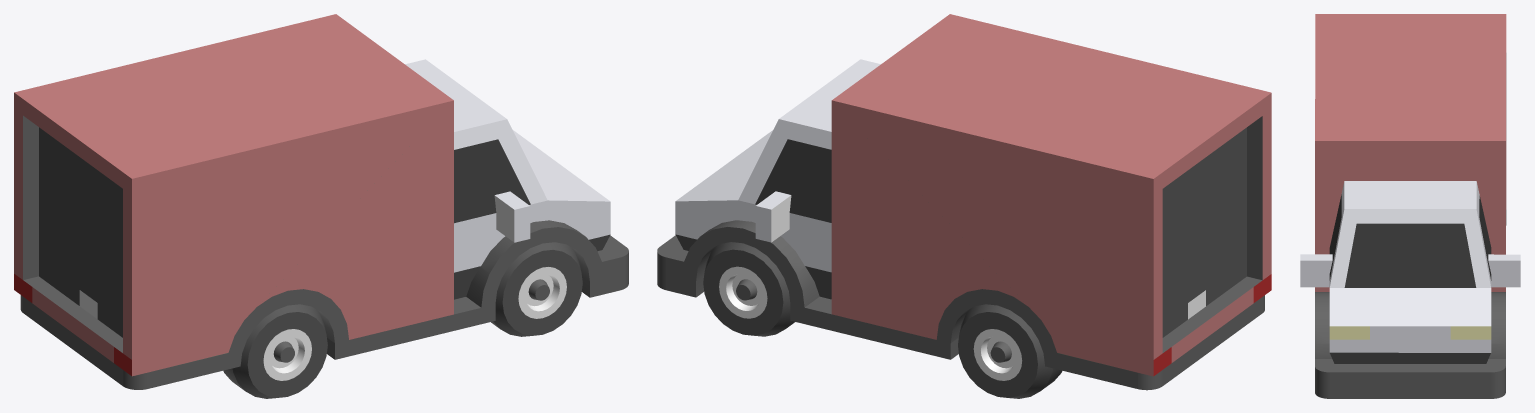
Rendered from 20 Trasport_Vehical_2.FBX.
3 views of the same model, side by side, from view 1: azimuth 30°, elevation 25°; view 2: azimuth 150°, elevation 25°; view 3: azimuth 270°, elevation 25° (orthographic). The views are drawn at different scales.
Visible parts, largest first — view 1: body009, door002, wheel_backRight009, wheel_frontRight009; view 2: body009, door002, wheel_backLeft009, wheel_frontLeft009; view 3: body009.
Part boxes in pixels (x1,y1,x2,y2): body009: (14,14,628,389); door002: (39,127,122,337); wheel_backRight009: (223,304,327,398); wheel_frontRight009: (491,242,582,336); body009: (657,14,1271,390); door002: (1162,127,1246,337); wheel_backLeft009: (958,304,1062,398); wheel_frontLeft009: (703,242,794,336); body009: (1300,14,1520,398).
Bounding box in the file's own units: 800 × 400 × 375.
